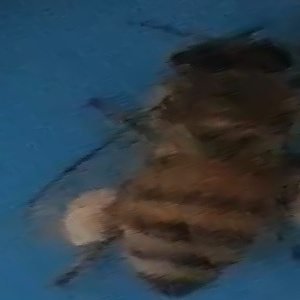bee: (27, 27, 300, 299)
